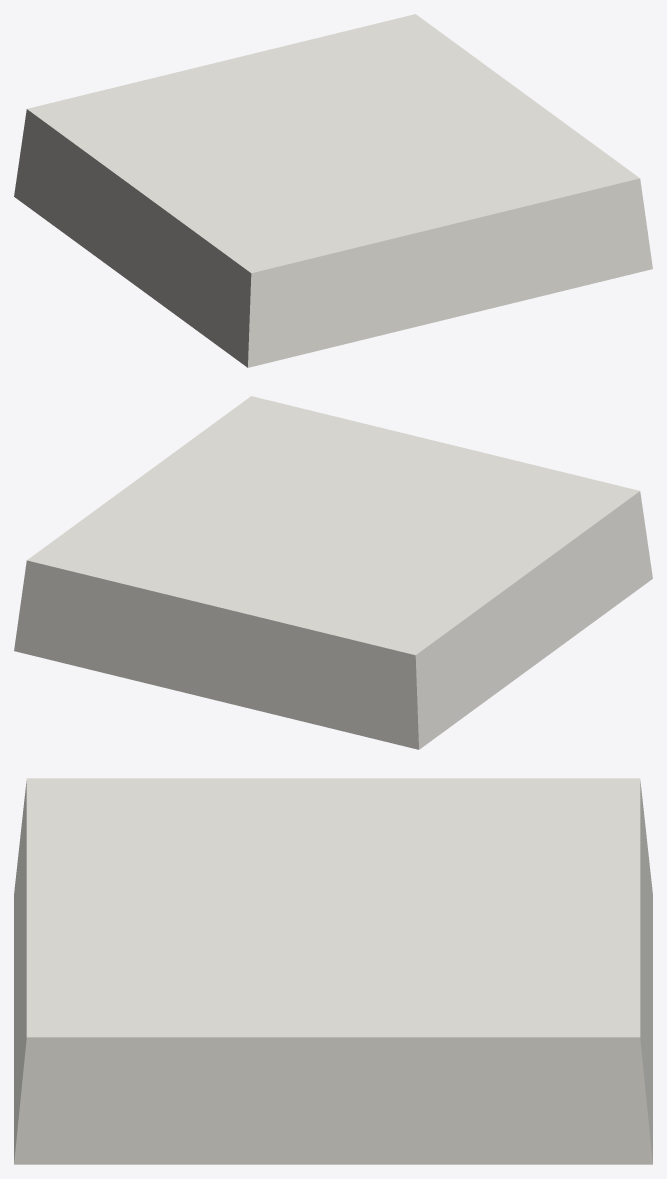
Rendered from GS_BaseballBase_01.glb.
3 views of the same model, one above another, from view 1: azimuth 30°, elevation 25°; view 2: azimuth 150°, elevation 25°; view 3: azimuth 270°, elevation 25° (orthographic). The views are drawn at different scales.
Parts seen in each view (by area): view 1: GS_BaseballBase_01; view 2: GS_BaseballBase_01; view 3: GS_BaseballBase_01.
Part boxes in pixels (x1,y1,x2,y2): GS_BaseballBase_01: (14,14,652,367); GS_BaseballBase_01: (14,396,652,749); GS_BaseballBase_01: (14,778,652,1164).
Size of the model in its own units: 0.38 by 0.08 by 0.38.
1 material, 1 textured.
